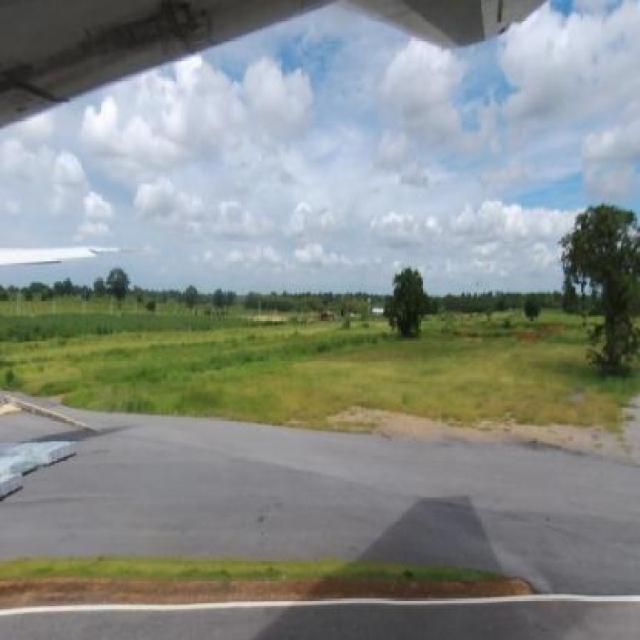Rust: (1, 0, 222, 137)
